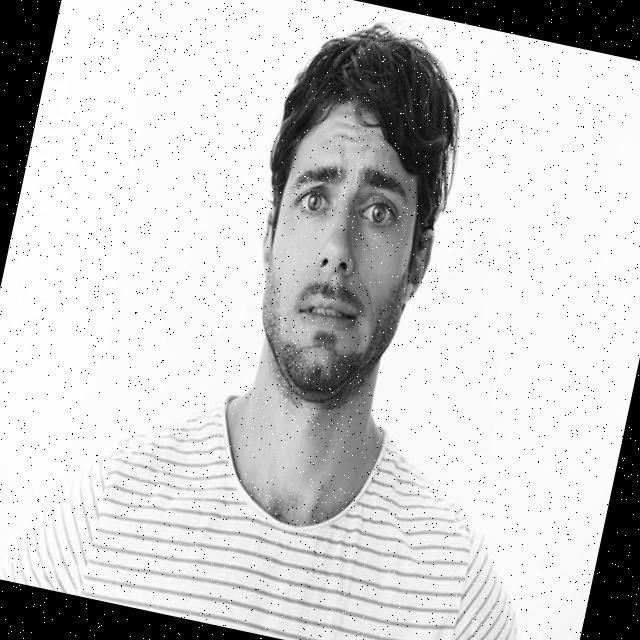Disgust: (236, 90, 445, 420)
